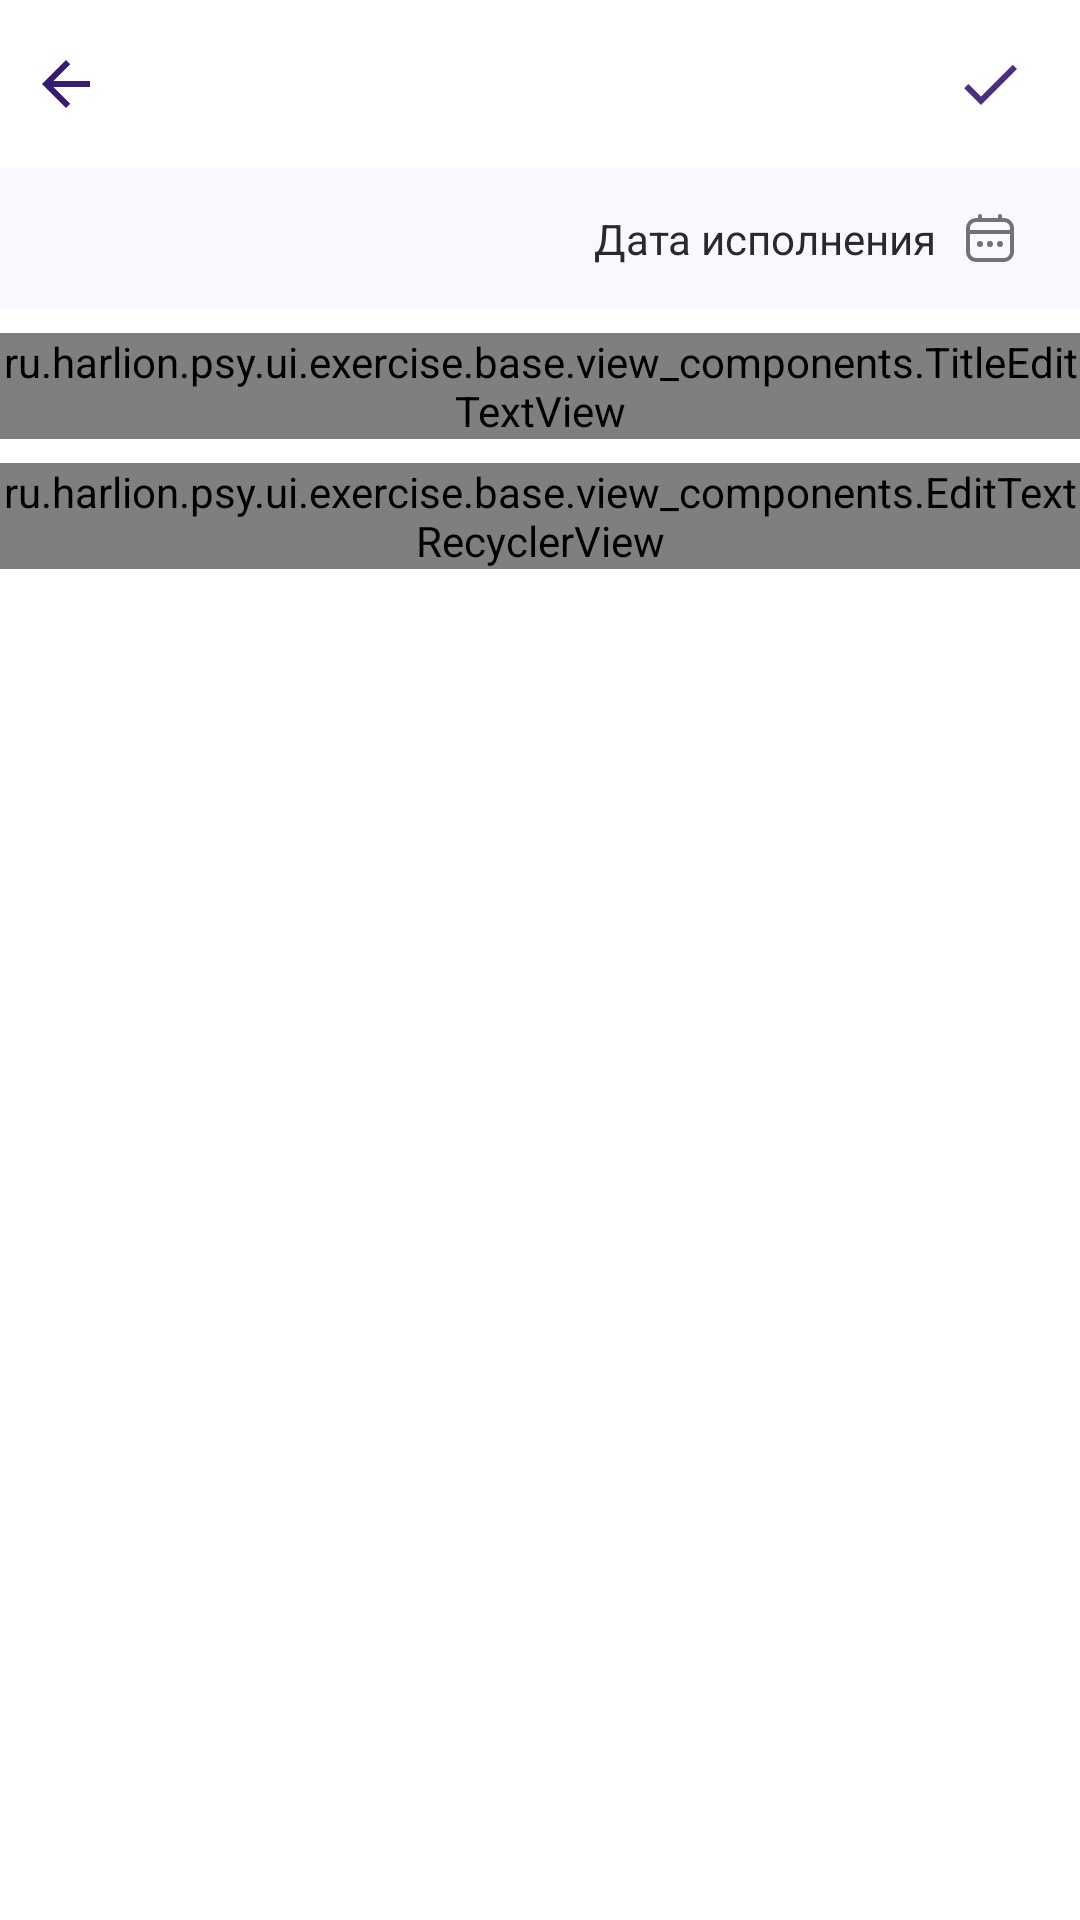

Icons on this 1080 x 1920 Android screen, each with its box as (x1=x1, y1=y1, x2=x2, y2=y2):
arrow back: (x1=42, y1=60, x2=90, y2=108)
done: (x1=964, y1=65, x2=1017, y2=105)
